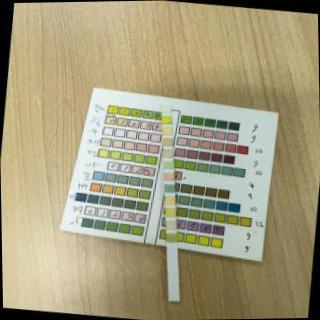mark: (166, 232, 176, 242), (166, 219, 176, 229), (167, 208, 176, 216), (166, 184, 174, 193), (164, 161, 173, 169), (164, 115, 172, 124), (165, 148, 172, 158), (167, 196, 175, 204), (166, 172, 173, 180), (164, 127, 172, 134), (165, 138, 172, 145), (163, 107, 171, 113)
